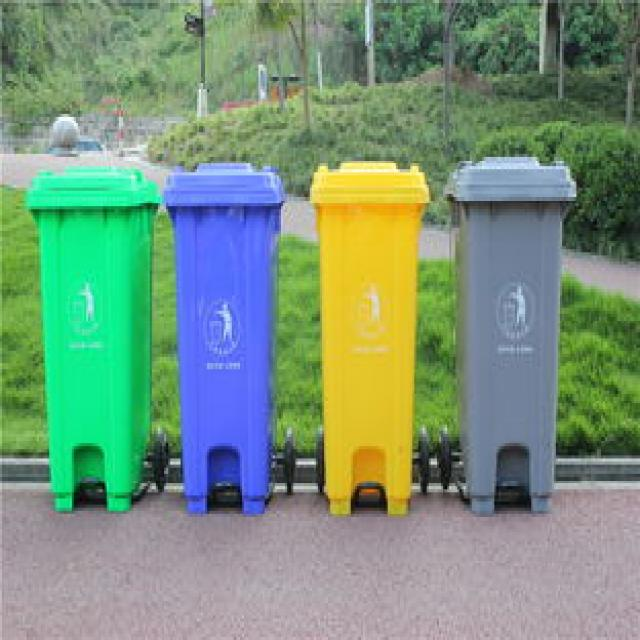garbage_bin: (443, 151, 574, 517), (25, 166, 160, 511), (306, 157, 426, 511), (162, 160, 281, 514)
